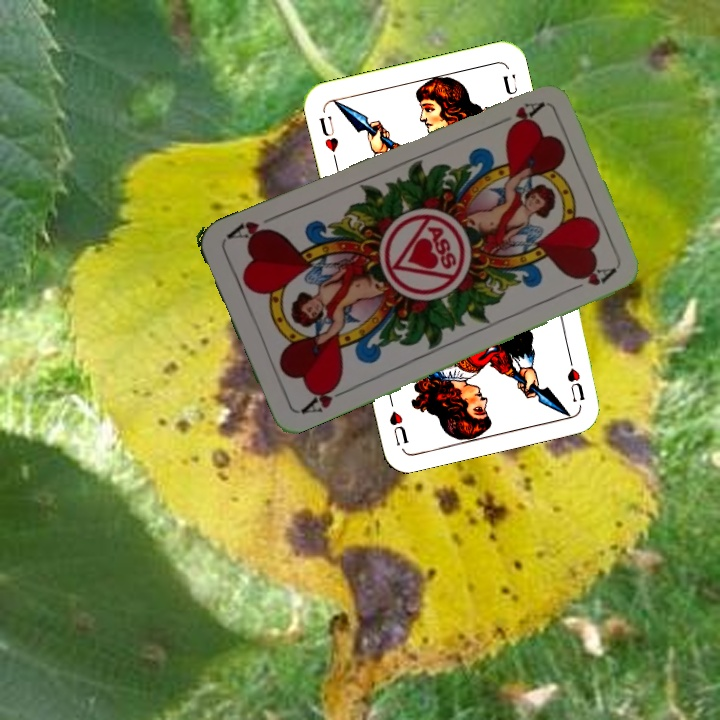HA: (296, 377, 351, 417), (489, 98, 546, 134)
HU: (315, 111, 341, 165), (563, 348, 587, 405)
